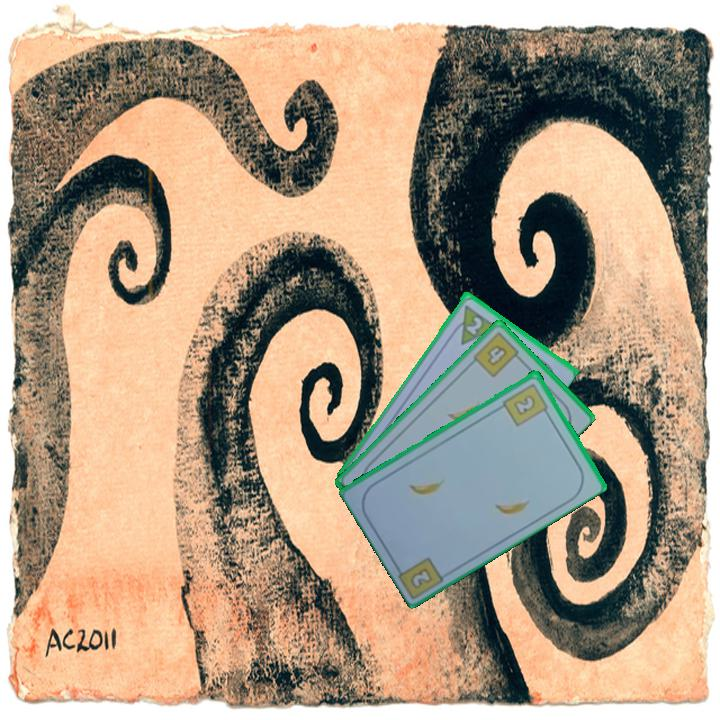2b: (499, 379, 552, 429), (407, 564, 435, 591)
2p: (462, 312, 485, 337)
4b: (469, 328, 525, 380)
